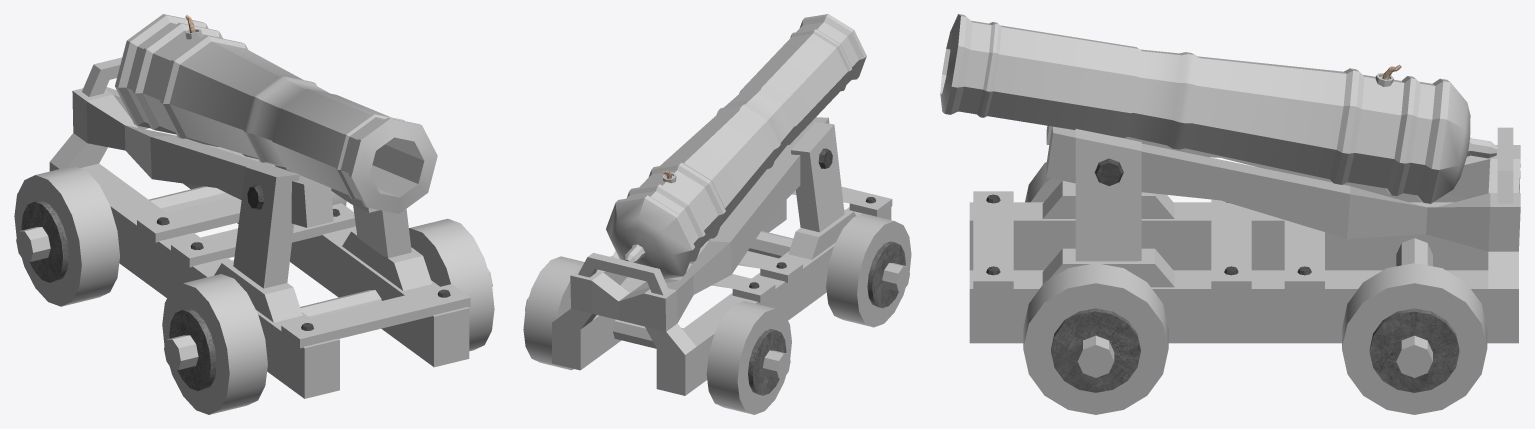
Rendered from CanonLvl1.fbx.
3 renders of one model, left to right at view 1: azimuth 30°, elevation 25°; view 2: azimuth 150°, elevation 25°; view 3: azimuth 270°, elevation 25°, orthographic. The views are drawn at different scales.
Visible parts, largest first — view 1: Cube, Cylinder.002, Circle, Circle.001, Cube.004, Cube.001, Cube.003, Cube.002, Circle.026, Circle.027, Cylinder.004, Cylinder.003; view 2: Cylinder.002, Cube, Circle.001, Circle, Cube.004, Cylinder.003, Circle.027, Circle.026, Cylinder.004, Cube.002, Cube.003, Cube.001; view 3: Cube, Cylinder.002, Circle, Circle.001, Cube.004, Circle.027, Circle.026, Cube.001, Cube.002, Cube.003, Cylinder.004, Cylinder.003 (+1 smaller).
Part boxes in pixels (x1,y1,x2,y2): Cube: (49, 57, 469, 398); Cylinder.002: (115, 14, 437, 213); Circle: (162, 218, 494, 414); Circle.001: (14, 165, 346, 306); Cube.004: (233, 164, 411, 288); Cube.001: (281, 284, 470, 348); Cube.003: (137, 196, 241, 242); Cube.002: (171, 203, 355, 267); Circle.026: (169, 308, 216, 390); Circle.027: (21, 200, 68, 282); Cylinder.004: (16, 186, 232, 261); Cylinder.003: (164, 268, 492, 370); Cylinder.002: (606, 14, 866, 279); Cube: (552, 117, 891, 395); Circle.001: (523, 256, 791, 414); Circle: (826, 213, 911, 327); Cube.004: (790, 122, 844, 232); Cylinder.003: (748, 231, 909, 291); Circle.027: (748, 329, 786, 395); Circle.026: (867, 241, 905, 308); Cylinder.004: (525, 297, 790, 378); Cube.002: (697, 241, 802, 282); Cube.003: (668, 263, 775, 302); Cube.001: (792, 187, 892, 216); Cube: (969, 125, 1520, 343); Cylinder.002: (940, 14, 1497, 203); Circle: (1023, 162, 1168, 414); Circle.001: (1342, 189, 1487, 414); Cube.004: (1075, 129, 1141, 261); Circle.027: (1369, 308, 1459, 392); Circle.026: (1051, 308, 1140, 392); Cube.001: (973, 191, 1013, 290); Cube.002: (1211, 199, 1251, 290); Cube.003: (1284, 220, 1324, 290); Cylinder.004: (1396, 238, 1432, 377); Cylinder.003: (1077, 335, 1114, 377).
Bounding box in the file's own units: 106 × 99.1 × 159.
